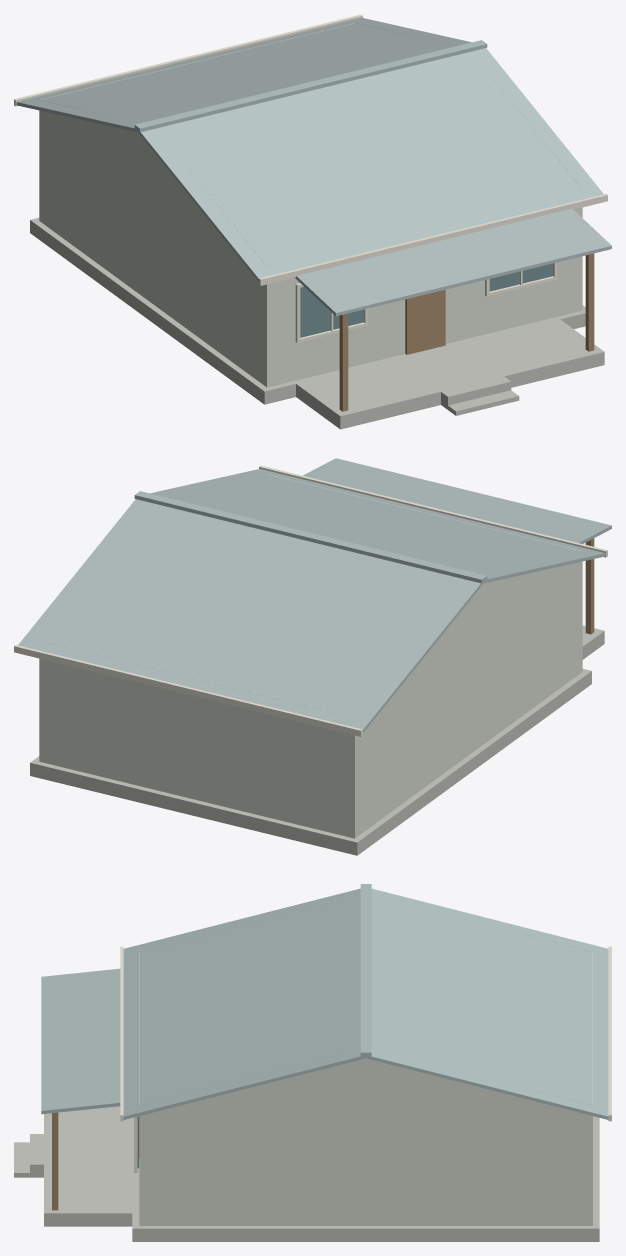
The model's file is coastal_house.glb.
3 views of the same model, one above another, from view 1: azimuth 30°, elevation 25°; view 2: azimuth 150°, elevation 25°; view 3: azimuth 270°, elevation 25° (orthographic).
Parts seen in each view (by area): view 1: SealedRoof_1, ClosedHome, SealedRoof_-1, PorchDeck, PorchRoof, Foundation, RidgeCap, Gables, Fascia.001, Door, Fascia, Glazing (+5 smaller); view 2: SealedRoof_-1, ClosedHome, SealedRoof_1, Foundation, PorchRoof, RidgeCap, Gables, Fascia, Fascia.001, PorchPost; view 3: ClosedHome, SealedRoof_1, SealedRoof_-1, PorchRoof, PorchDeck, Gables, Foundation, RidgeCap, Fascia, Fascia.001, PorchPost.001, UpperStep (+1 smaller).
Part boxes in pixels (x1=…): SealedRoof_1: x1=138, y1=48, x2=603, y2=281; ClosedHome: x1=39, y1=23, x2=582, y2=387; SealedRoof_-1: x1=16, y1=18, x2=471, y2=132; PorchDeck: x1=296, y1=319, x2=604, y2=429; PorchRoof: x1=295, y1=208, x2=611, y2=316; Foundation: x1=30, y1=217, x2=585, y2=404; RidgeCap: x1=134, y1=40, x2=487, y2=132; Gables: x1=41, y1=23, x2=581, y2=261; Fascia.001: x1=259, y1=194, x2=607, y2=285; Door: x1=405, y1=289, x2=445, y2=354; Fascia: x1=14, y1=14, x2=362, y2=106; Glazing: x1=300, y1=287, x2=363, y2=337; SealedRoof_-1: x1=18, y1=499, x2=483, y2=732; ClosedHome: x1=39, y1=474, x2=582, y2=838; SealedRoof_1: x1=150, y1=469, x2=605, y2=583; Foundation: x1=30, y1=669, x2=591, y2=855; PorchRoof: x1=303, y1=458, x2=611, y2=543; RidgeCap: x1=134, y1=491, x2=487, y2=583; Gables: x1=41, y1=475, x2=579, y2=714; Fascia: x1=14, y1=645, x2=362, y2=736; Fascia.001: x1=259, y1=465, x2=607, y2=557; PorchPost: x1=585, y1=538, x2=594, y2=634; ClosedHome: x1=139, y1=952, x2=592, y2=1225; SealedRoof_1: x1=123, y1=888, x2=365, y2=1119; SealedRoof_-1: x1=366, y1=888, x2=608, y2=1119; PorchRoof: x1=41, y1=968, x2=120, y2=1114; PorchDeck: x1=44, y1=1106, x2=139, y2=1226; Gables: x1=140, y1=934, x2=590, y2=1105; Foundation: x1=132, y1=1116, x2=599, y2=1241; RidgeCap: x1=360, y1=884, x2=371, y2=1056; Fascia: x1=608, y1=946, x2=611, y2=1121; Fascia.001: x1=120, y1=946, x2=123, y2=1121; PorchPost.001: x1=52, y1=1112, x2=58, y2=1210; UpperStep: x1=30, y1=1134, x2=43, y2=1177.
Bounding box in the file's own units: 8.8 × 4.72 × 13.18.
